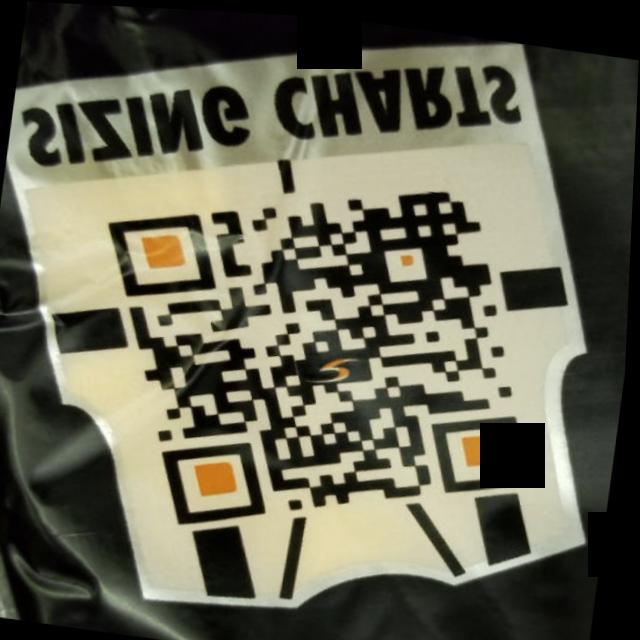QR_CODE: (70, 135, 574, 581)
